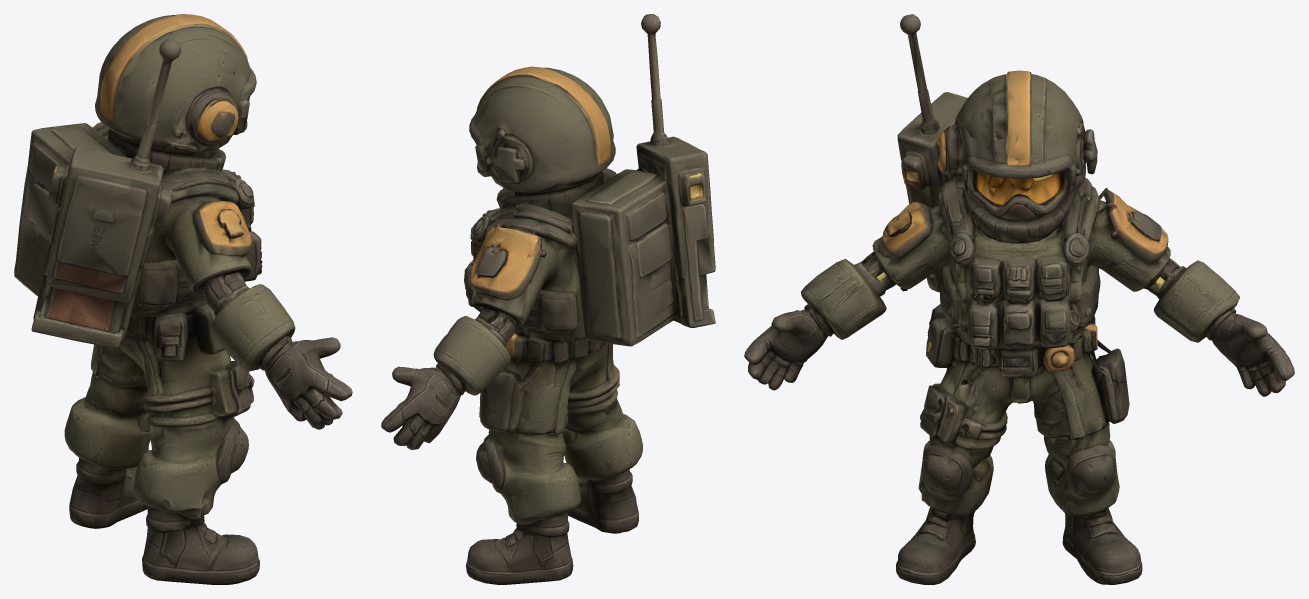
The model's file is operator.gltf.
3 renders of one model, left to right at view 1: azimuth 30°, elevation 25°; view 2: azimuth 150°, elevation 25°; view 3: azimuth 270°, elevation 25°, orthographic. The views are drawn at different scales.
Visible parts, largest first — view 1: operator; view 2: operator; view 3: operator.
Boxes of the visible parts, left/top/right/bottom form: operator: left=14, top=14, right=352, bottom=584; operator: left=381, top=14, right=715, bottom=584; operator: left=744, top=14, right=1294, bottom=584.
Size of the model in its own units: 0.4486 by 0.9997 by 0.9401.
Materials: 1 (1 with a texture image).
